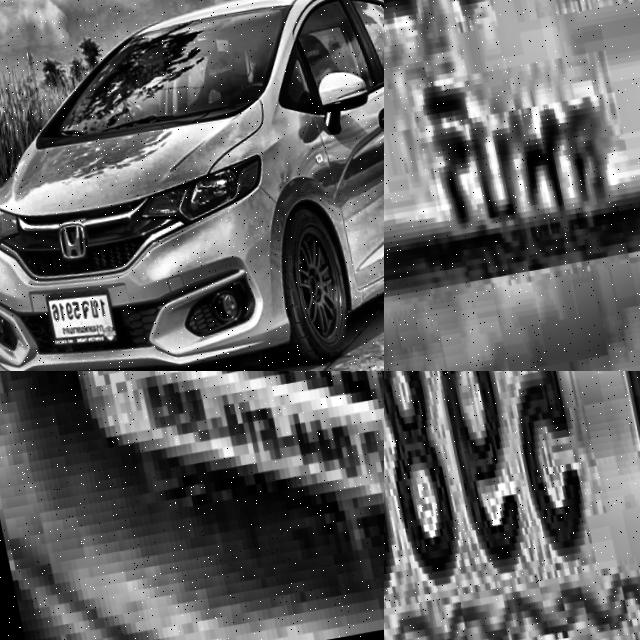license-plate: (0, 371, 384, 640), (384, 0, 640, 331), (384, 371, 640, 640), (39, 287, 116, 357)
